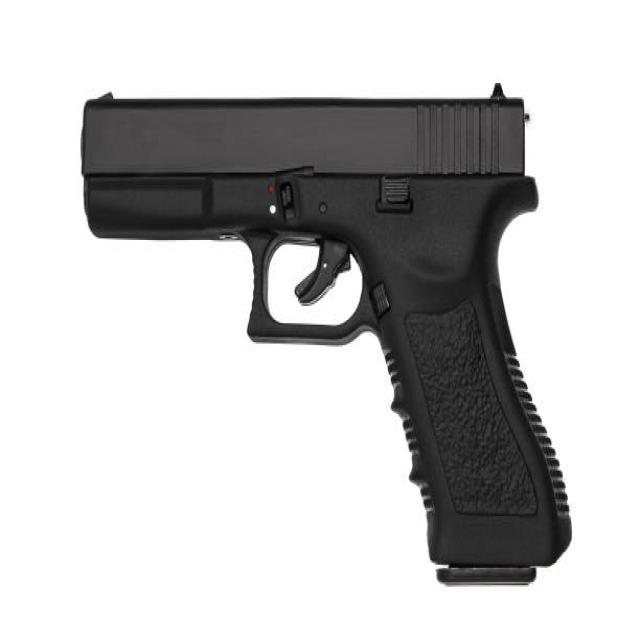pistol: (65, 81, 578, 604)
